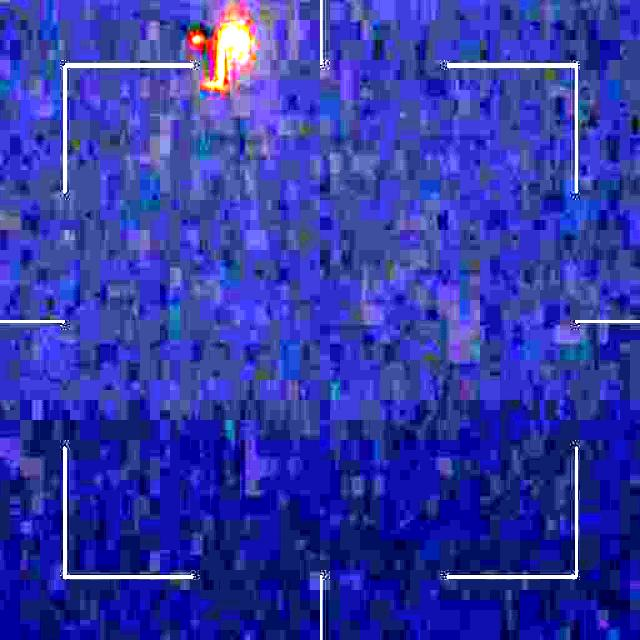bird: (182, 14, 264, 90)
